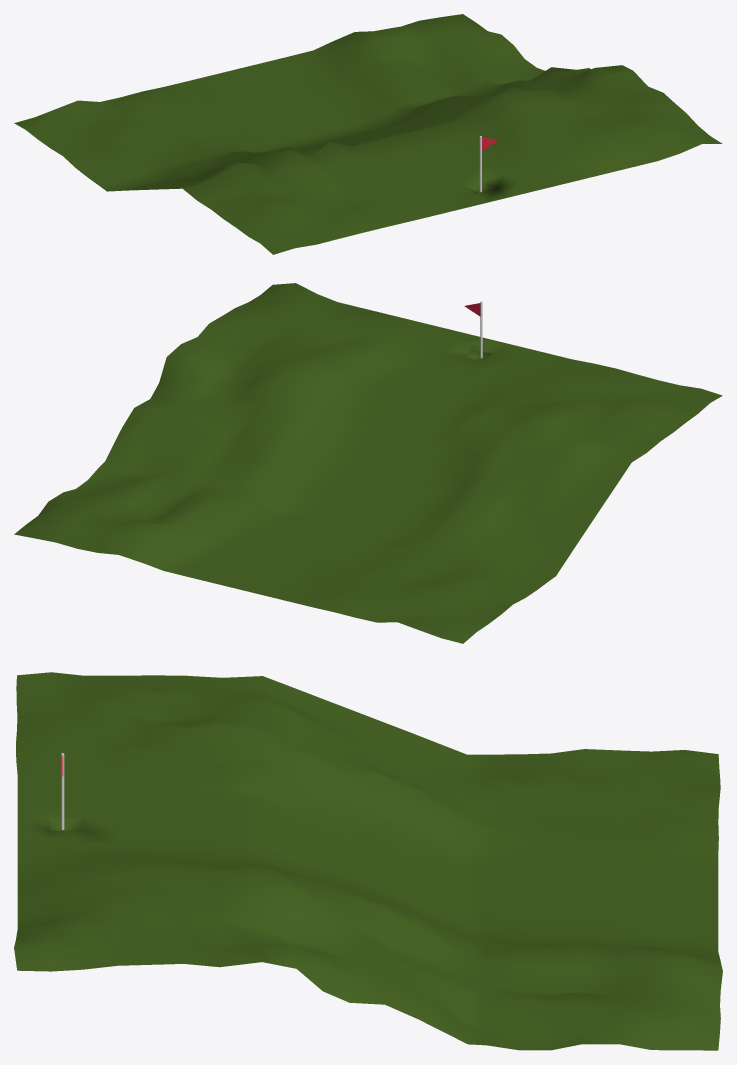
File: holeOneScenery.glb
3 views of the same model, one above another, from view 1: azimuth 30°, elevation 25°; view 2: azimuth 150°, elevation 25°; view 3: azimuth 270°, elevation 25° (orthographic). The views are drawn at different scales.
Visible parts, largest first — view 1: Plane; view 2: Plane; view 3: Plane.
Part boxes in pixels (x1,y1,x2,y2): Plane: [14, 14, 722, 254]; Plane: [14, 283, 722, 643]; Plane: [14, 672, 722, 1050].
Bounding box in the file's own units: 18.61 × 4.32 × 18.64.
